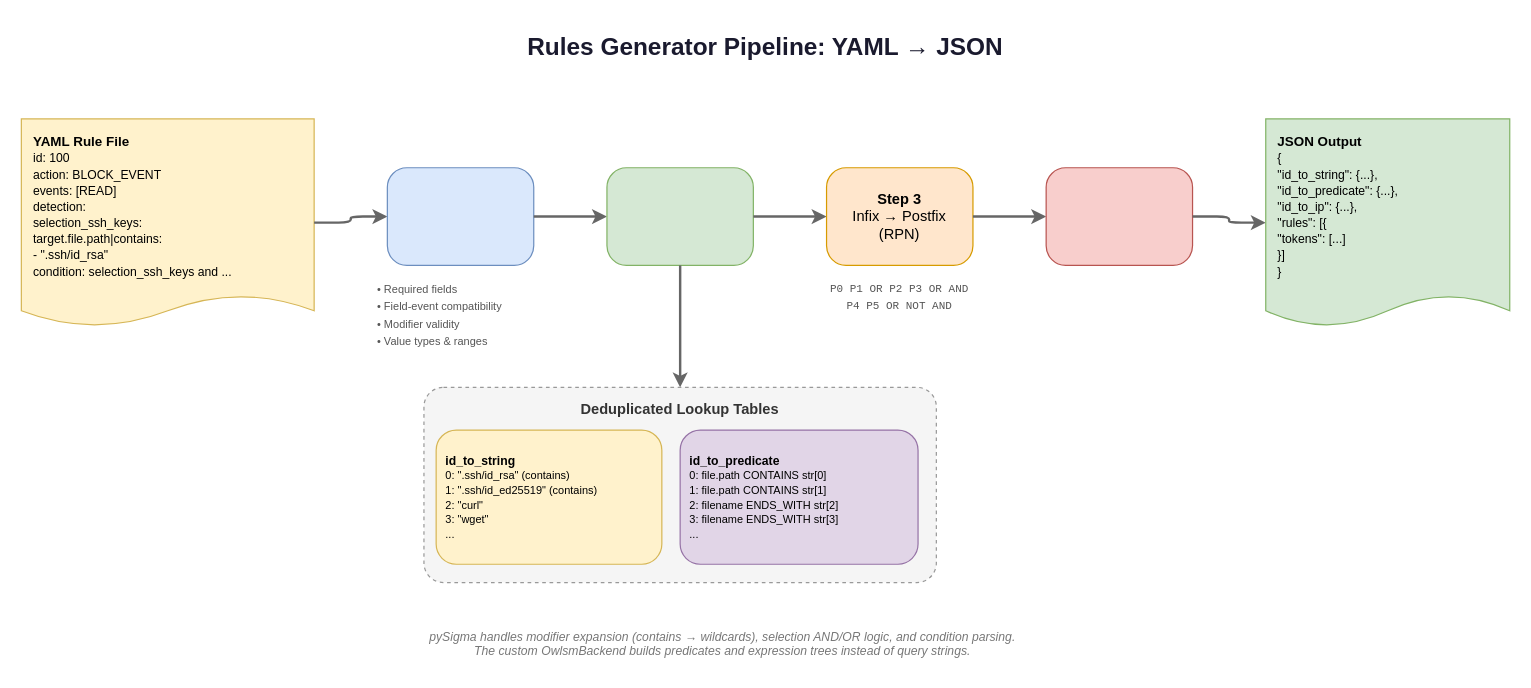
The diagram is 1531 pixels wide and 688 high, and some of its shapes have lost their labels. The centre of each missing label's shape, as x and y in pixels:
"Step 1 Schema Validation" belongs at pixel 460 216.
"Step 2 pySigma AST Parsing" belongs at pixel 679 216.
"Step 4 Tokenize & Serialize" belongs at pixel 1119 216.
